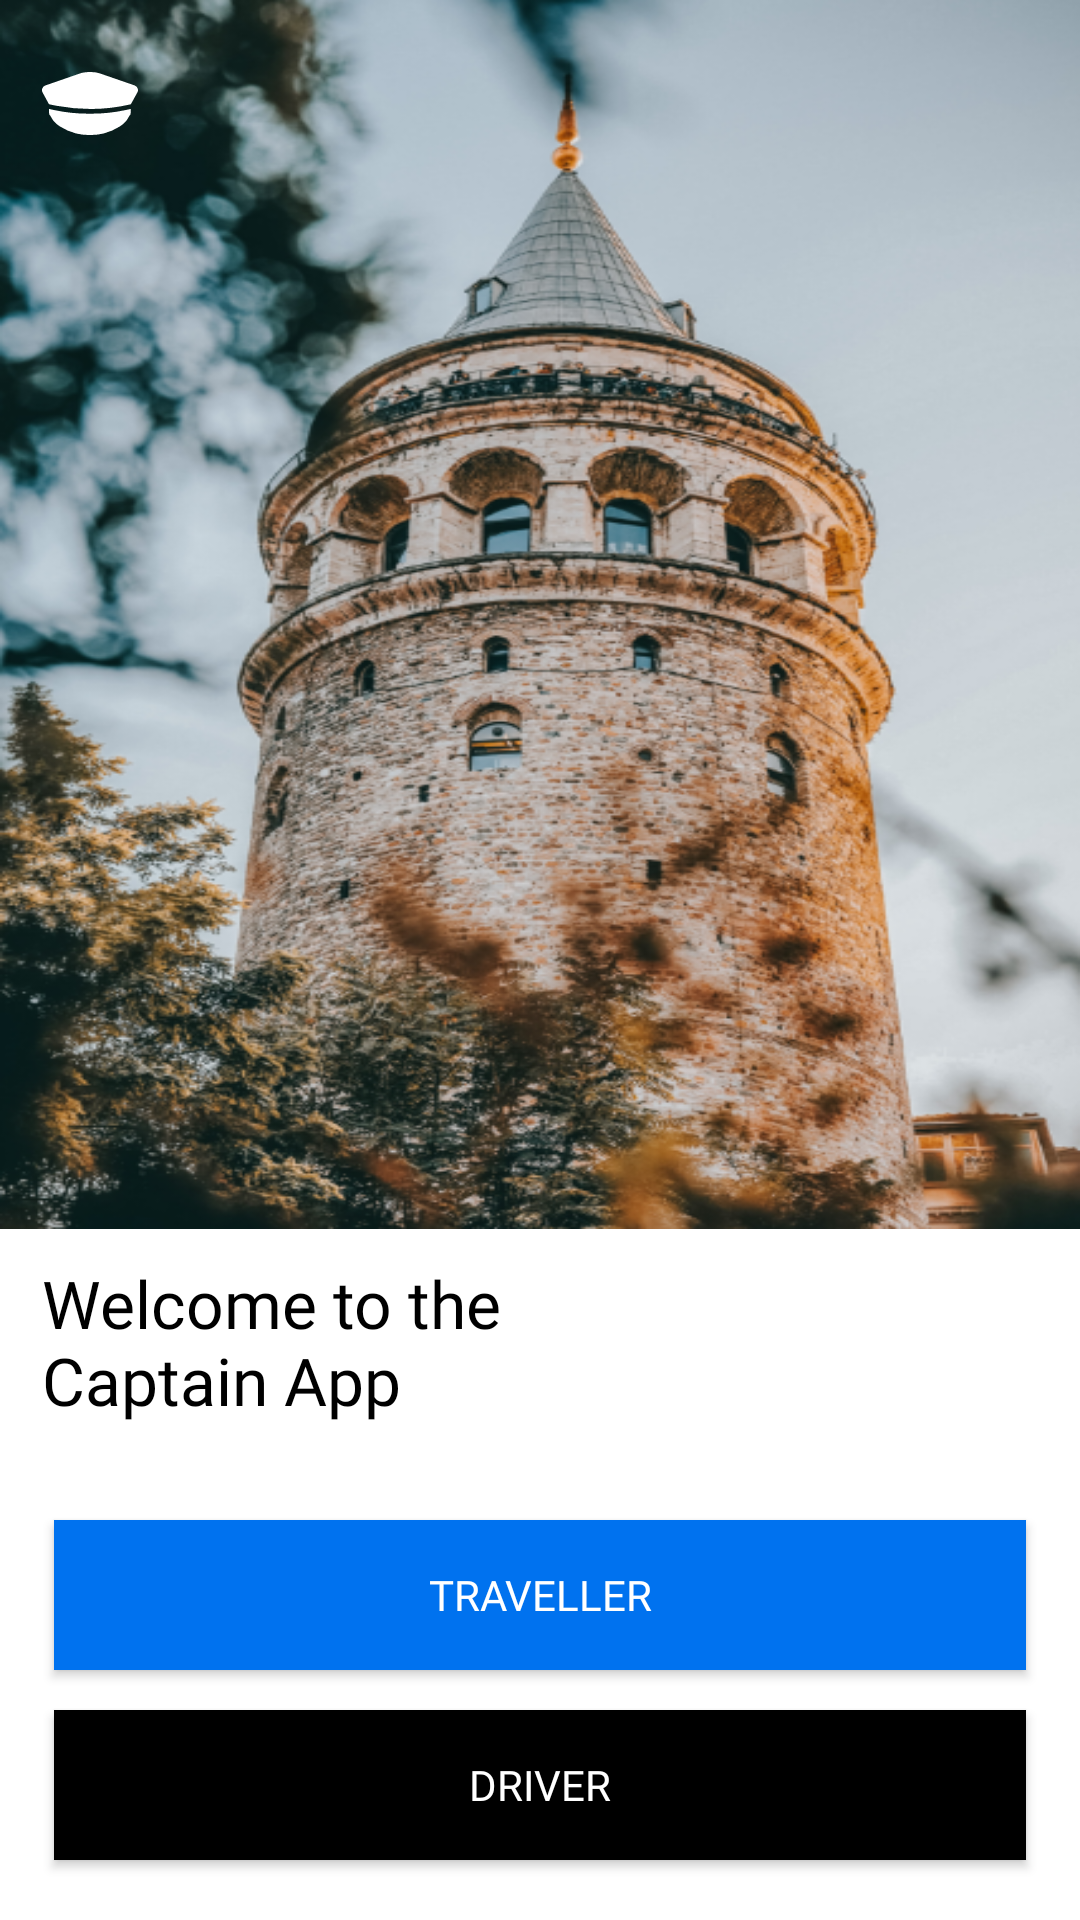

Locate icon controls on the screen. Image size 1080*1920, boxes as (x1, y1, x2, y2).
chaptan: (42, 72, 138, 135)
